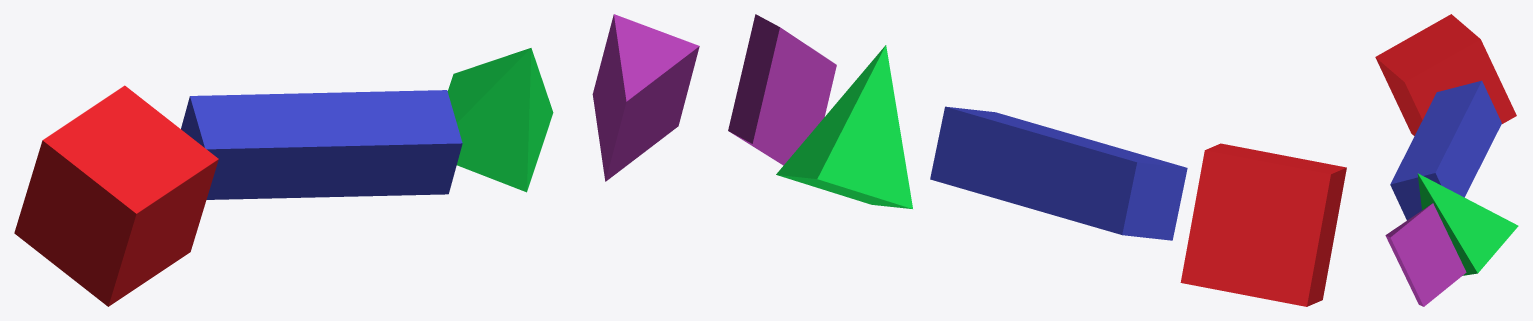
The model's file is asset.gltf.
The picture shows the model from 3 angles, left to right: view 1: azimuth 30°, elevation 25°; view 2: azimuth 150°, elevation 25°; view 3: azimuth 270°, elevation 25°; orthographic projection. The views are drawn at different scales.
Bounding box in the file's own units: 0.9767 × 0.257 × 0.2831.
4 materials, 4 textured.
